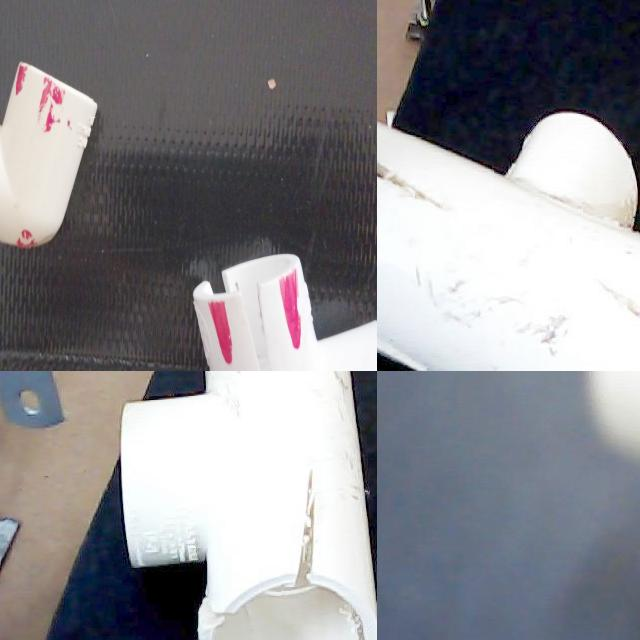Defective: (377, 135, 494, 243), (377, 275, 494, 371), (558, 252, 640, 371), (281, 438, 337, 598), (178, 548, 268, 640), (123, 210, 164, 268), (339, 584, 377, 640), (142, 164, 184, 207), (89, 60, 117, 118), (26, 177, 55, 222)
L Joint: (31, 63, 172, 293)
T Joint: (118, 371, 377, 640), (377, 114, 640, 371)
